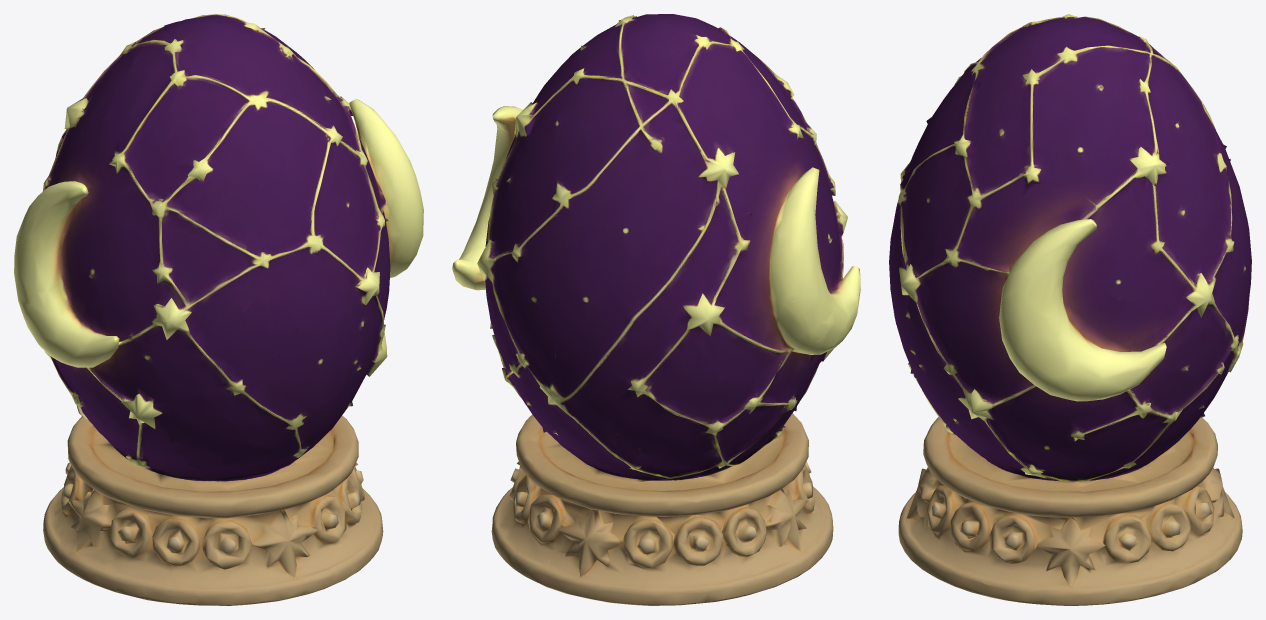
The model's file is celestial-mystery-egg .glb.
3 renders of one model, left to right at view 1: azimuth 30°, elevation 25°; view 2: azimuth 150°, elevation 25°; view 3: azimuth 270°, elevation 25°, orthographic.
Visible parts, largest first — view 1: Mesh::generatedModels/PftfbIAqxyQQaT0eng8J.gltf; view 2: Mesh::generatedModels/PftfbIAqxyQQaT0eng8J.gltf; view 3: Mesh::generatedModels/PftfbIAqxyQQaT0eng8J.gltf.
Boxes of the visible parts, x1=… form: Mesh::generatedModels/PftfbIAqxyQQaT0eng8J.gltf: x1=14, y1=14, x2=423, y2=605; Mesh::generatedModels/PftfbIAqxyQQaT0eng8J.gltf: x1=452, y1=14, x2=860, y2=605; Mesh::generatedModels/PftfbIAqxyQQaT0eng8J.gltf: x1=889, y1=14, x2=1251, y2=605.
Bounding box in the file's own units: 0.7535 × 1 × 0.6467.
Materials: 1 (1 with a texture image).
